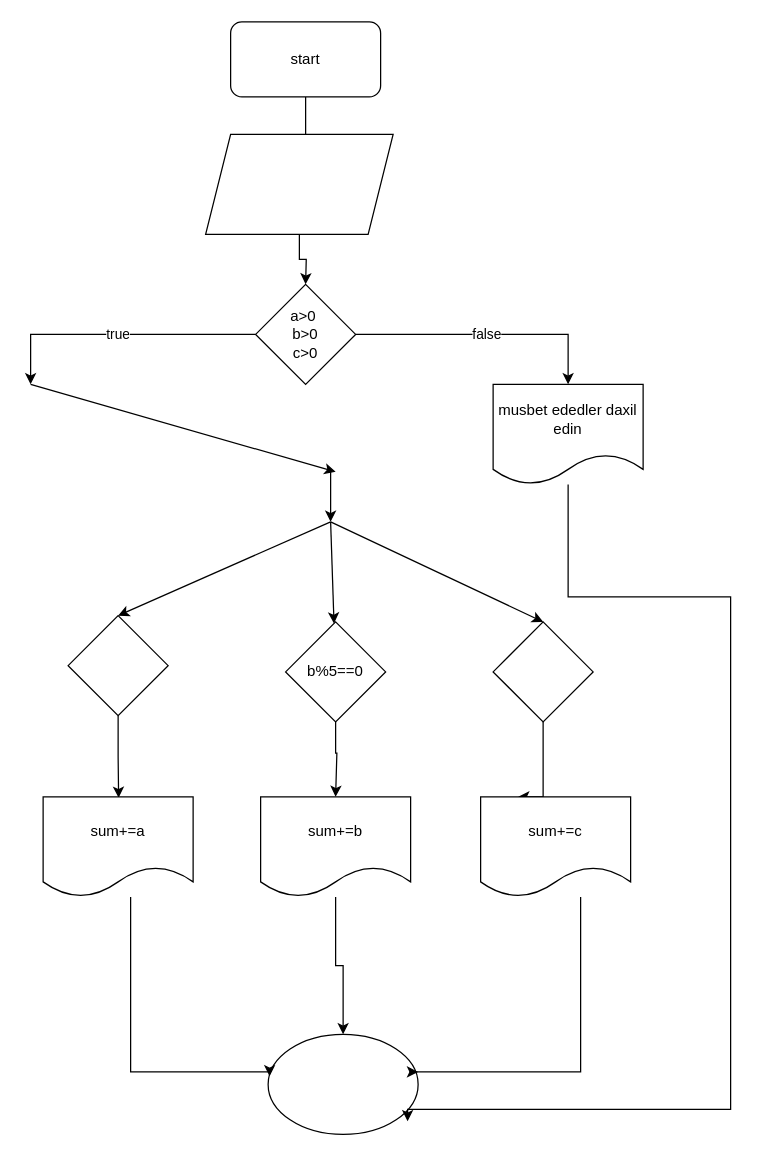
This 763x1156 diagram has some shape labels left out. The centre of each missing label's shape, as x and y in pixels:
"a%5==0" belongs at point (117, 665).
"c%5==0" belongs at point (542, 671).
"int a int b int c int sum" belongs at point (298, 183).
"It is end" belongs at point (342, 1083).
